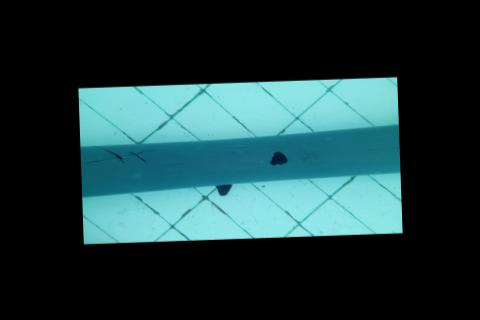kebocoran: (266, 149, 289, 166)
keretakan: (82, 146, 154, 165)
